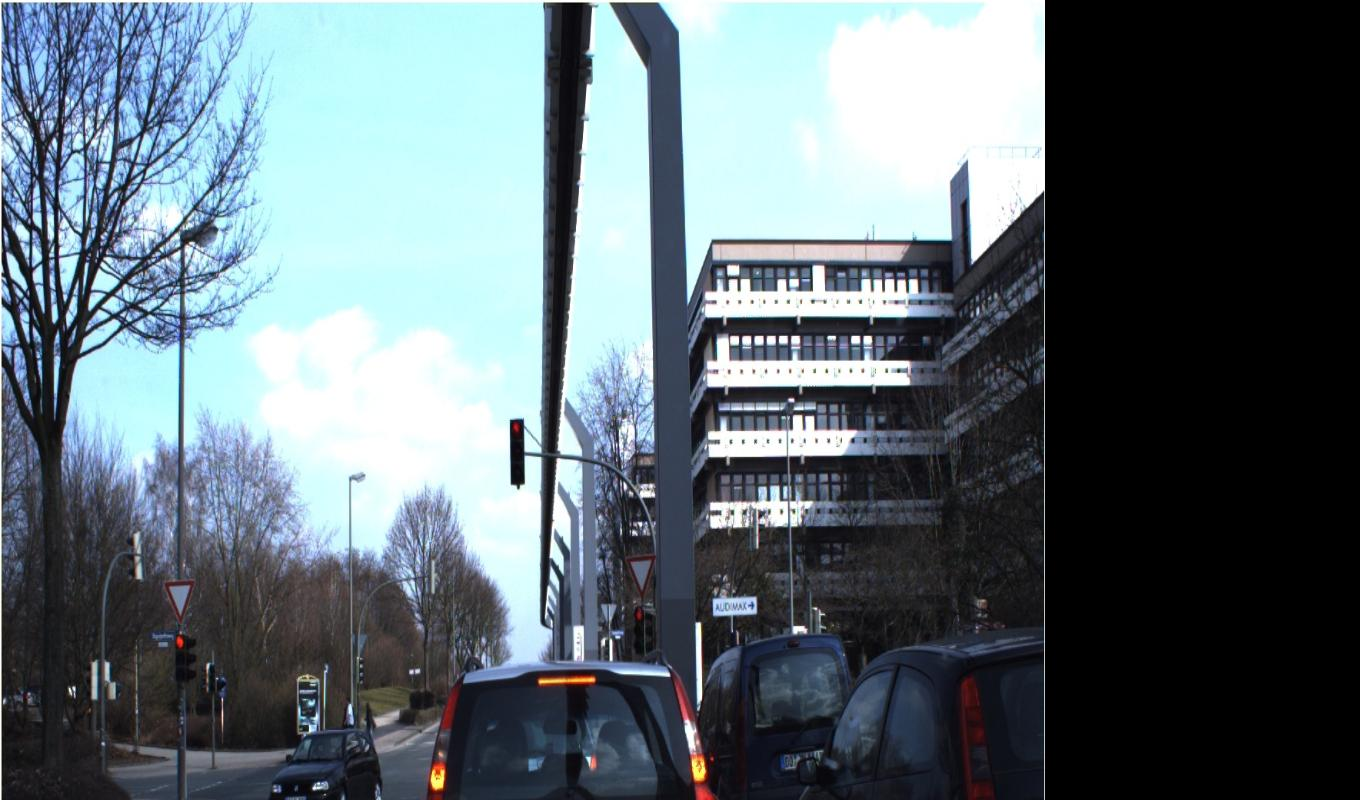give way: (163, 553, 656, 626)
